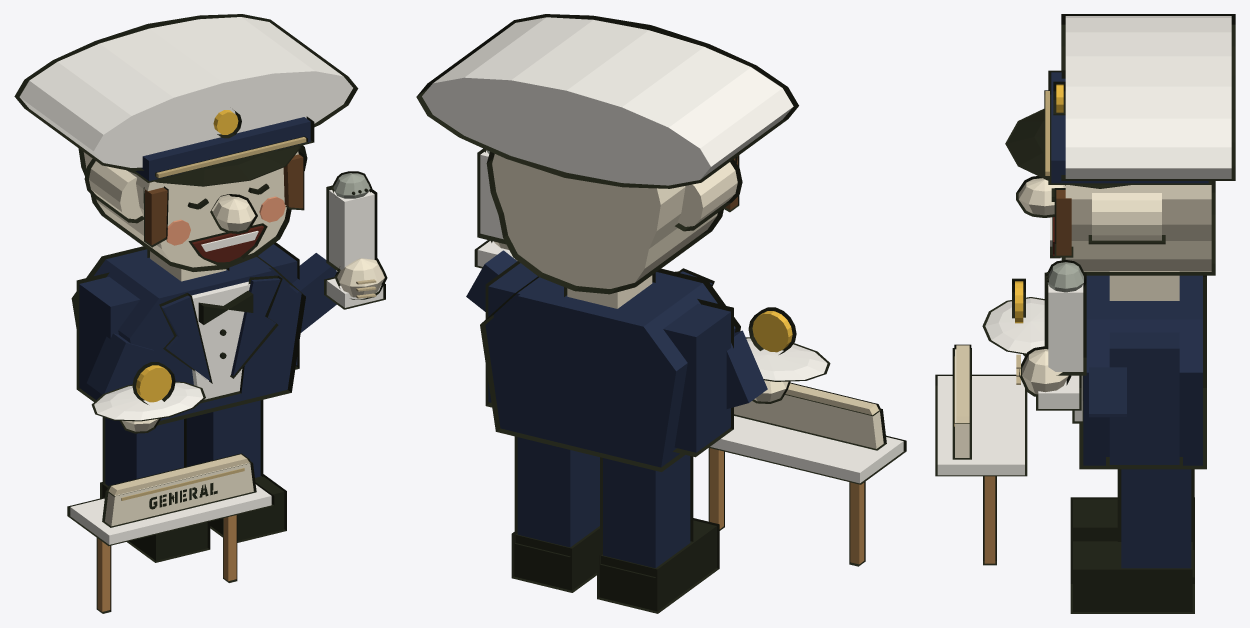
3 renders of one model, left to right at view 1: azimuth 30°, elevation 25°; view 2: azimuth 150°, elevation 25°; view 3: azimuth 270°, elevation 25°, orthographic. The views are drawn at different scales.
Visible parts, largest first — view 1: Link Marine; view 2: Link Marine; view 3: Link Marine.
Part boxes in pixels (x1,y1,x2,y2): Link Marine: [14, 14, 387, 613]; Link Marine: [416, 14, 906, 613]; Link Marine: [935, 14, 1235, 613].
Size of the model in its own units: 0.722 by 0.9942 by 0.5155.
